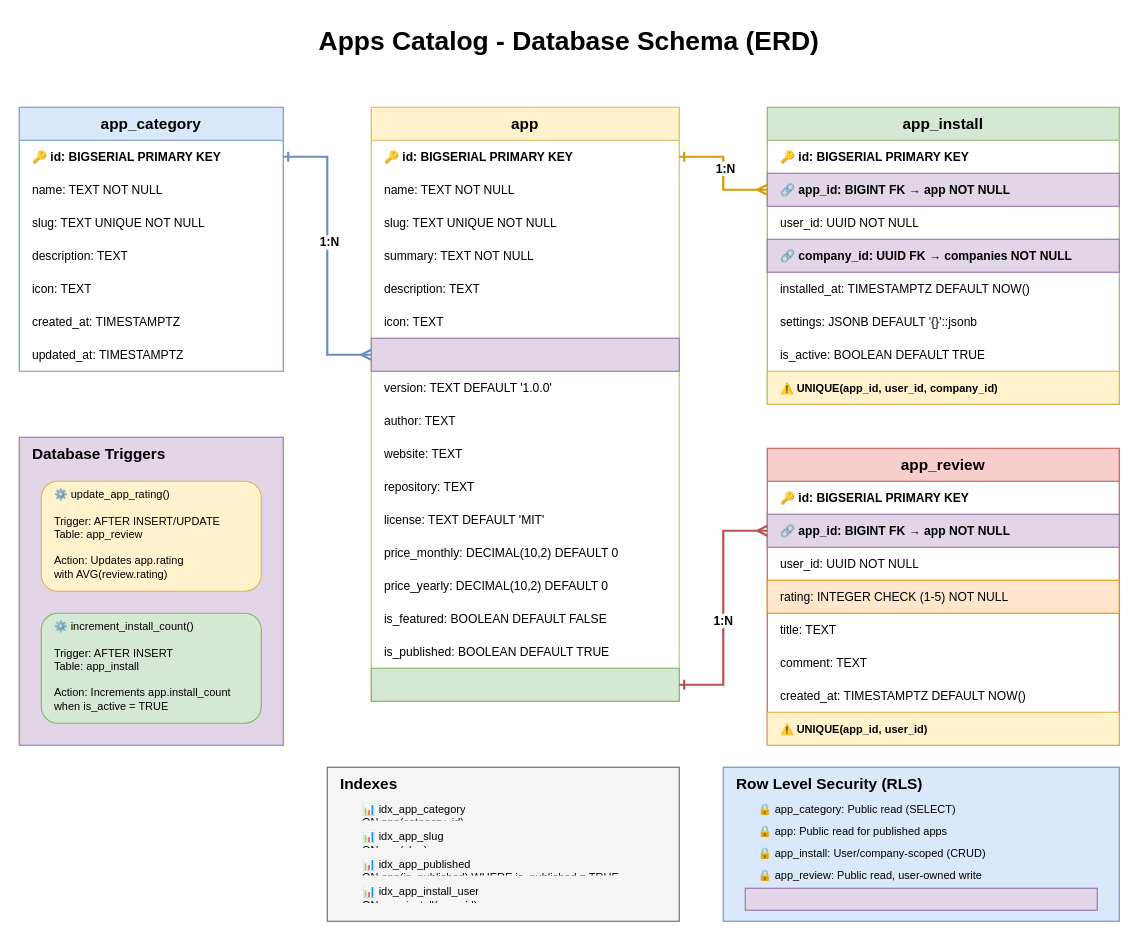
The diagram is 1139 pixels wide and 941 high, and some of its shapes have lost their labels. The centre of each missing label's shape, as x and y in pixels:
install_count: INTEGER DEFAULT 0: the point at 524,684
✓ JWT validation: auth.uid() and ops.jwt_company_id(): the point at 920,898
🔗 category_id: BIGINT FK → app_category: the point at 524,354
